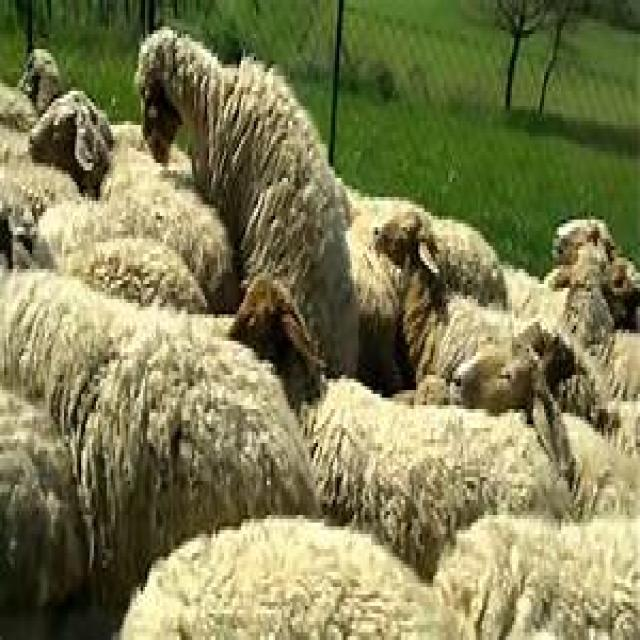goat: (0, 269, 322, 640), (282, 356, 640, 587), (134, 27, 361, 379), (113, 519, 450, 640), (433, 489, 640, 640), (375, 220, 516, 413), (26, 87, 117, 201)
